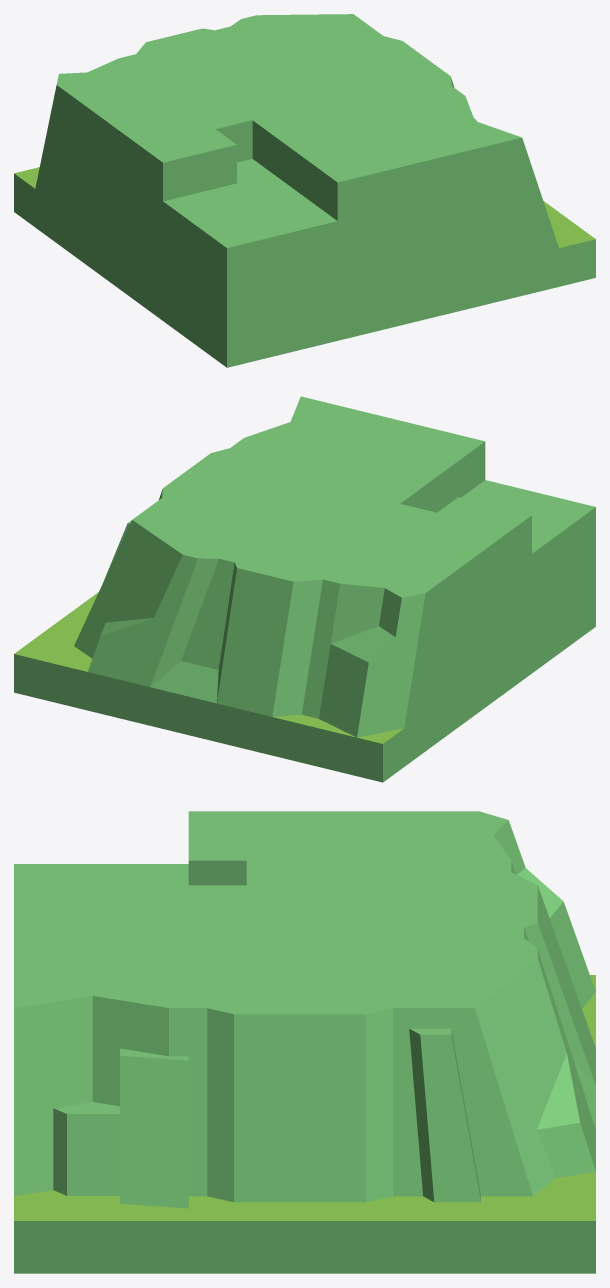
Rendered from x_zem_1_6_1_rmstrd.fbx.
The picture shows the model from 3 angles, top to bottom: view 1: azimuth 30°, elevation 25°; view 2: azimuth 150°, elevation 25°; view 3: azimuth 270°, elevation 25°; orthographic projection. The views are drawn at different scales.
Parts seen in each view (by area): view 1: x_zem_1_6_1_rmstrd1; view 2: x_zem_1_6_1_rmstrd1; view 3: x_zem_1_6_1_rmstrd1.
Boxes of the visible parts, x1,y1,x2,y2 form: x_zem_1_6_1_rmstrd1: (14, 14, 595, 367); x_zem_1_6_1_rmstrd1: (14, 396, 595, 782); x_zem_1_6_1_rmstrd1: (14, 811, 595, 1273).
Bounding box in the file's own units: 10 × 4.1 × 10.
